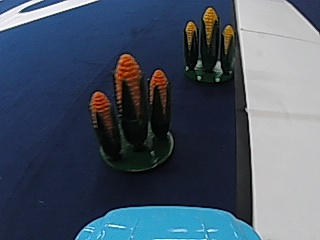corn: (95, 54, 174, 175), (179, 6, 239, 84)
